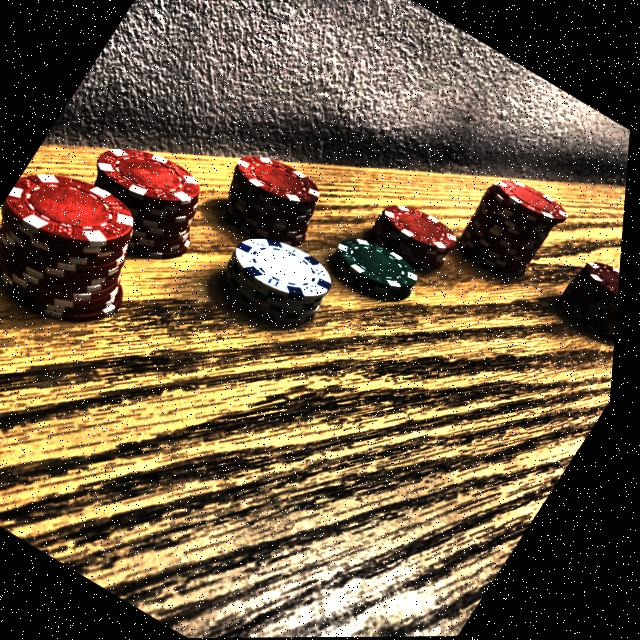Chip: (0, 129, 199, 368), (62, 117, 252, 297), (202, 213, 359, 360), (196, 127, 352, 272), (444, 165, 588, 305), (323, 223, 437, 327), (360, 191, 467, 289), (551, 244, 626, 364)
